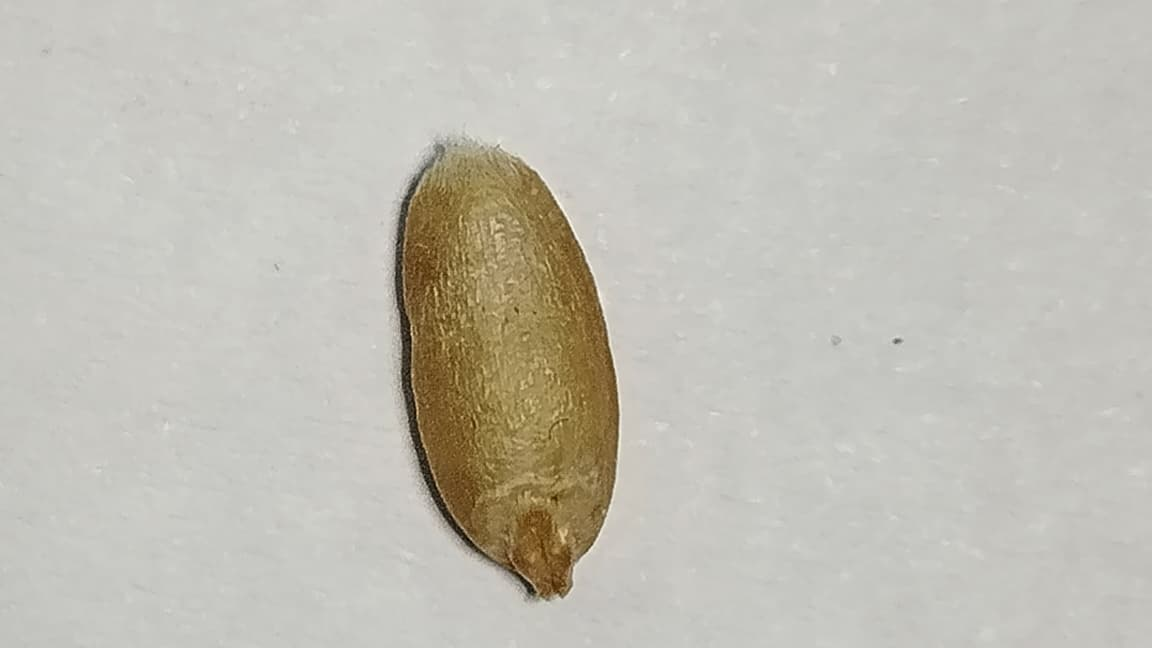healthy: (405, 144, 618, 596)
